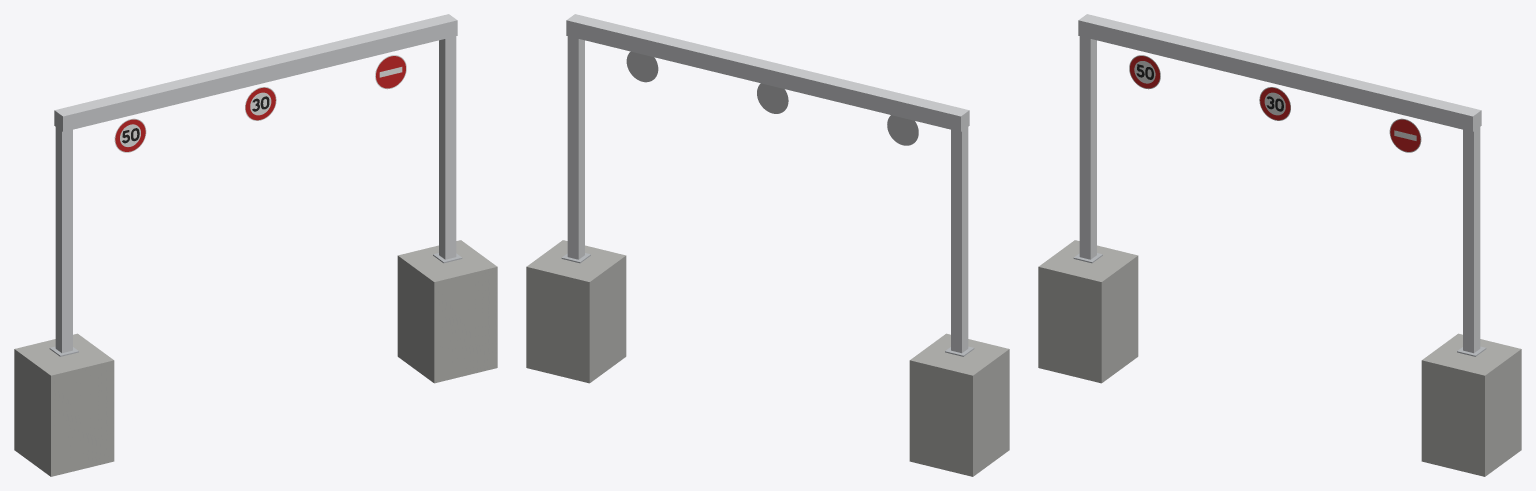
The model's file is portique_3voies.glb.
The picture shows the model from 3 angles, left to right: view 1: azimuth 30°, elevation 25°; view 2: azimuth 150°, elevation 25°; view 3: azimuth 330°, elevation 25°; orthographic projection.
Visible parts, largest first — view 1: portique_3voies_D_massif, portique_3voies_G_massif, portique_3voies_traverse, portique_3voies_montantG, portique_3voies_montantD, B1_p01; view 2: portique_3voies_D_massif, portique_3voies_G_massif, portique_3voies_traverse, portique_3voies_montantG, portique_3voies_montantD, B1_dos, B14-50_dos.001, B14-30_dos; view 3: portique_3voies_G_massif, portique_3voies_D_massif, portique_3voies_traverse, portique_3voies_montantD, portique_3voies_montantG, B1_p01.
Part boxes in pixels (left/top/right/bottom): portique_3voies_D_massif: left=397, top=240, right=497, bottom=383; portique_3voies_G_massif: left=14, top=333, right=114, bottom=476; portique_3voies_traverse: left=54, top=14, right=457, bottom=131; portique_3voies_montantG: left=55, top=108, right=72, bottom=353; portique_3voies_montantD: left=439, top=15, right=456, bottom=259; B1_p01: left=376, top=56, right=405, bottom=88; portique_3voies_D_massif: left=526, top=240, right=626, bottom=383; portique_3voies_G_massif: left=909, top=333, right=1009, bottom=476; portique_3voies_traverse: left=566, top=14, right=969, bottom=131; portique_3voies_montantG: left=951, top=108, right=968, bottom=353; portique_3voies_montantD: left=567, top=15, right=584, bottom=259; B1_dos: left=626, top=51, right=658, bottom=82; B14-50_dos.001: left=887, top=115, right=918, bottom=145; B14-30_dos: left=757, top=83, right=788, bottom=113; portique_3voies_G_massif: left=1038, top=240, right=1138, bottom=383; portique_3voies_D_massif: left=1421, top=333, right=1521, bottom=476; portique_3voies_traverse: left=1078, top=14, right=1481, bottom=131; portique_3voies_montantD: left=1463, top=108, right=1480, bottom=353; portique_3voies_montantG: left=1079, top=15, right=1096, bottom=259; B1_p01: left=1390, top=119, right=1420, bottom=151.
Bounding box in the file's own units: 12 × 8.83 × 1.7.
